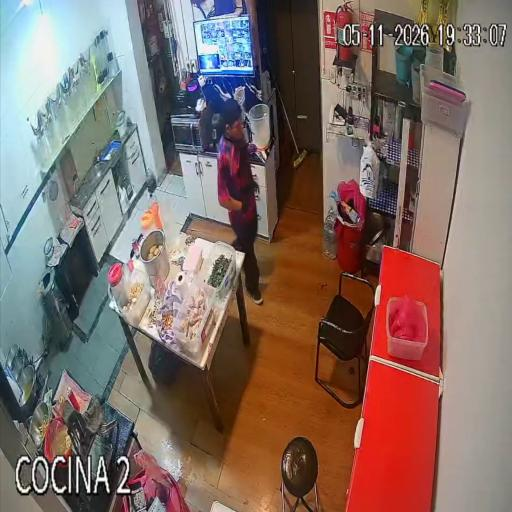Balde: (249, 103, 271, 150)
Envase Ketchup: (66, 387, 80, 411)
Envase Llajua: (59, 396, 65, 404)
Jarra1: (108, 263, 128, 307)
Jarra2: (141, 209, 156, 236)
Jarra3: (160, 198, 178, 248)
JarraLicuadora: (73, 174, 83, 199)
Microondas: (170, 101, 214, 153)
Persona1: (217, 100, 262, 303)
Taper: (200, 241, 237, 301)
Taper2: (174, 284, 216, 355)
Taper3: (116, 267, 151, 326)
Taper4: (386, 297, 429, 360)
Vaso1: (127, 259, 134, 273)
olla1: (141, 229, 169, 290)
